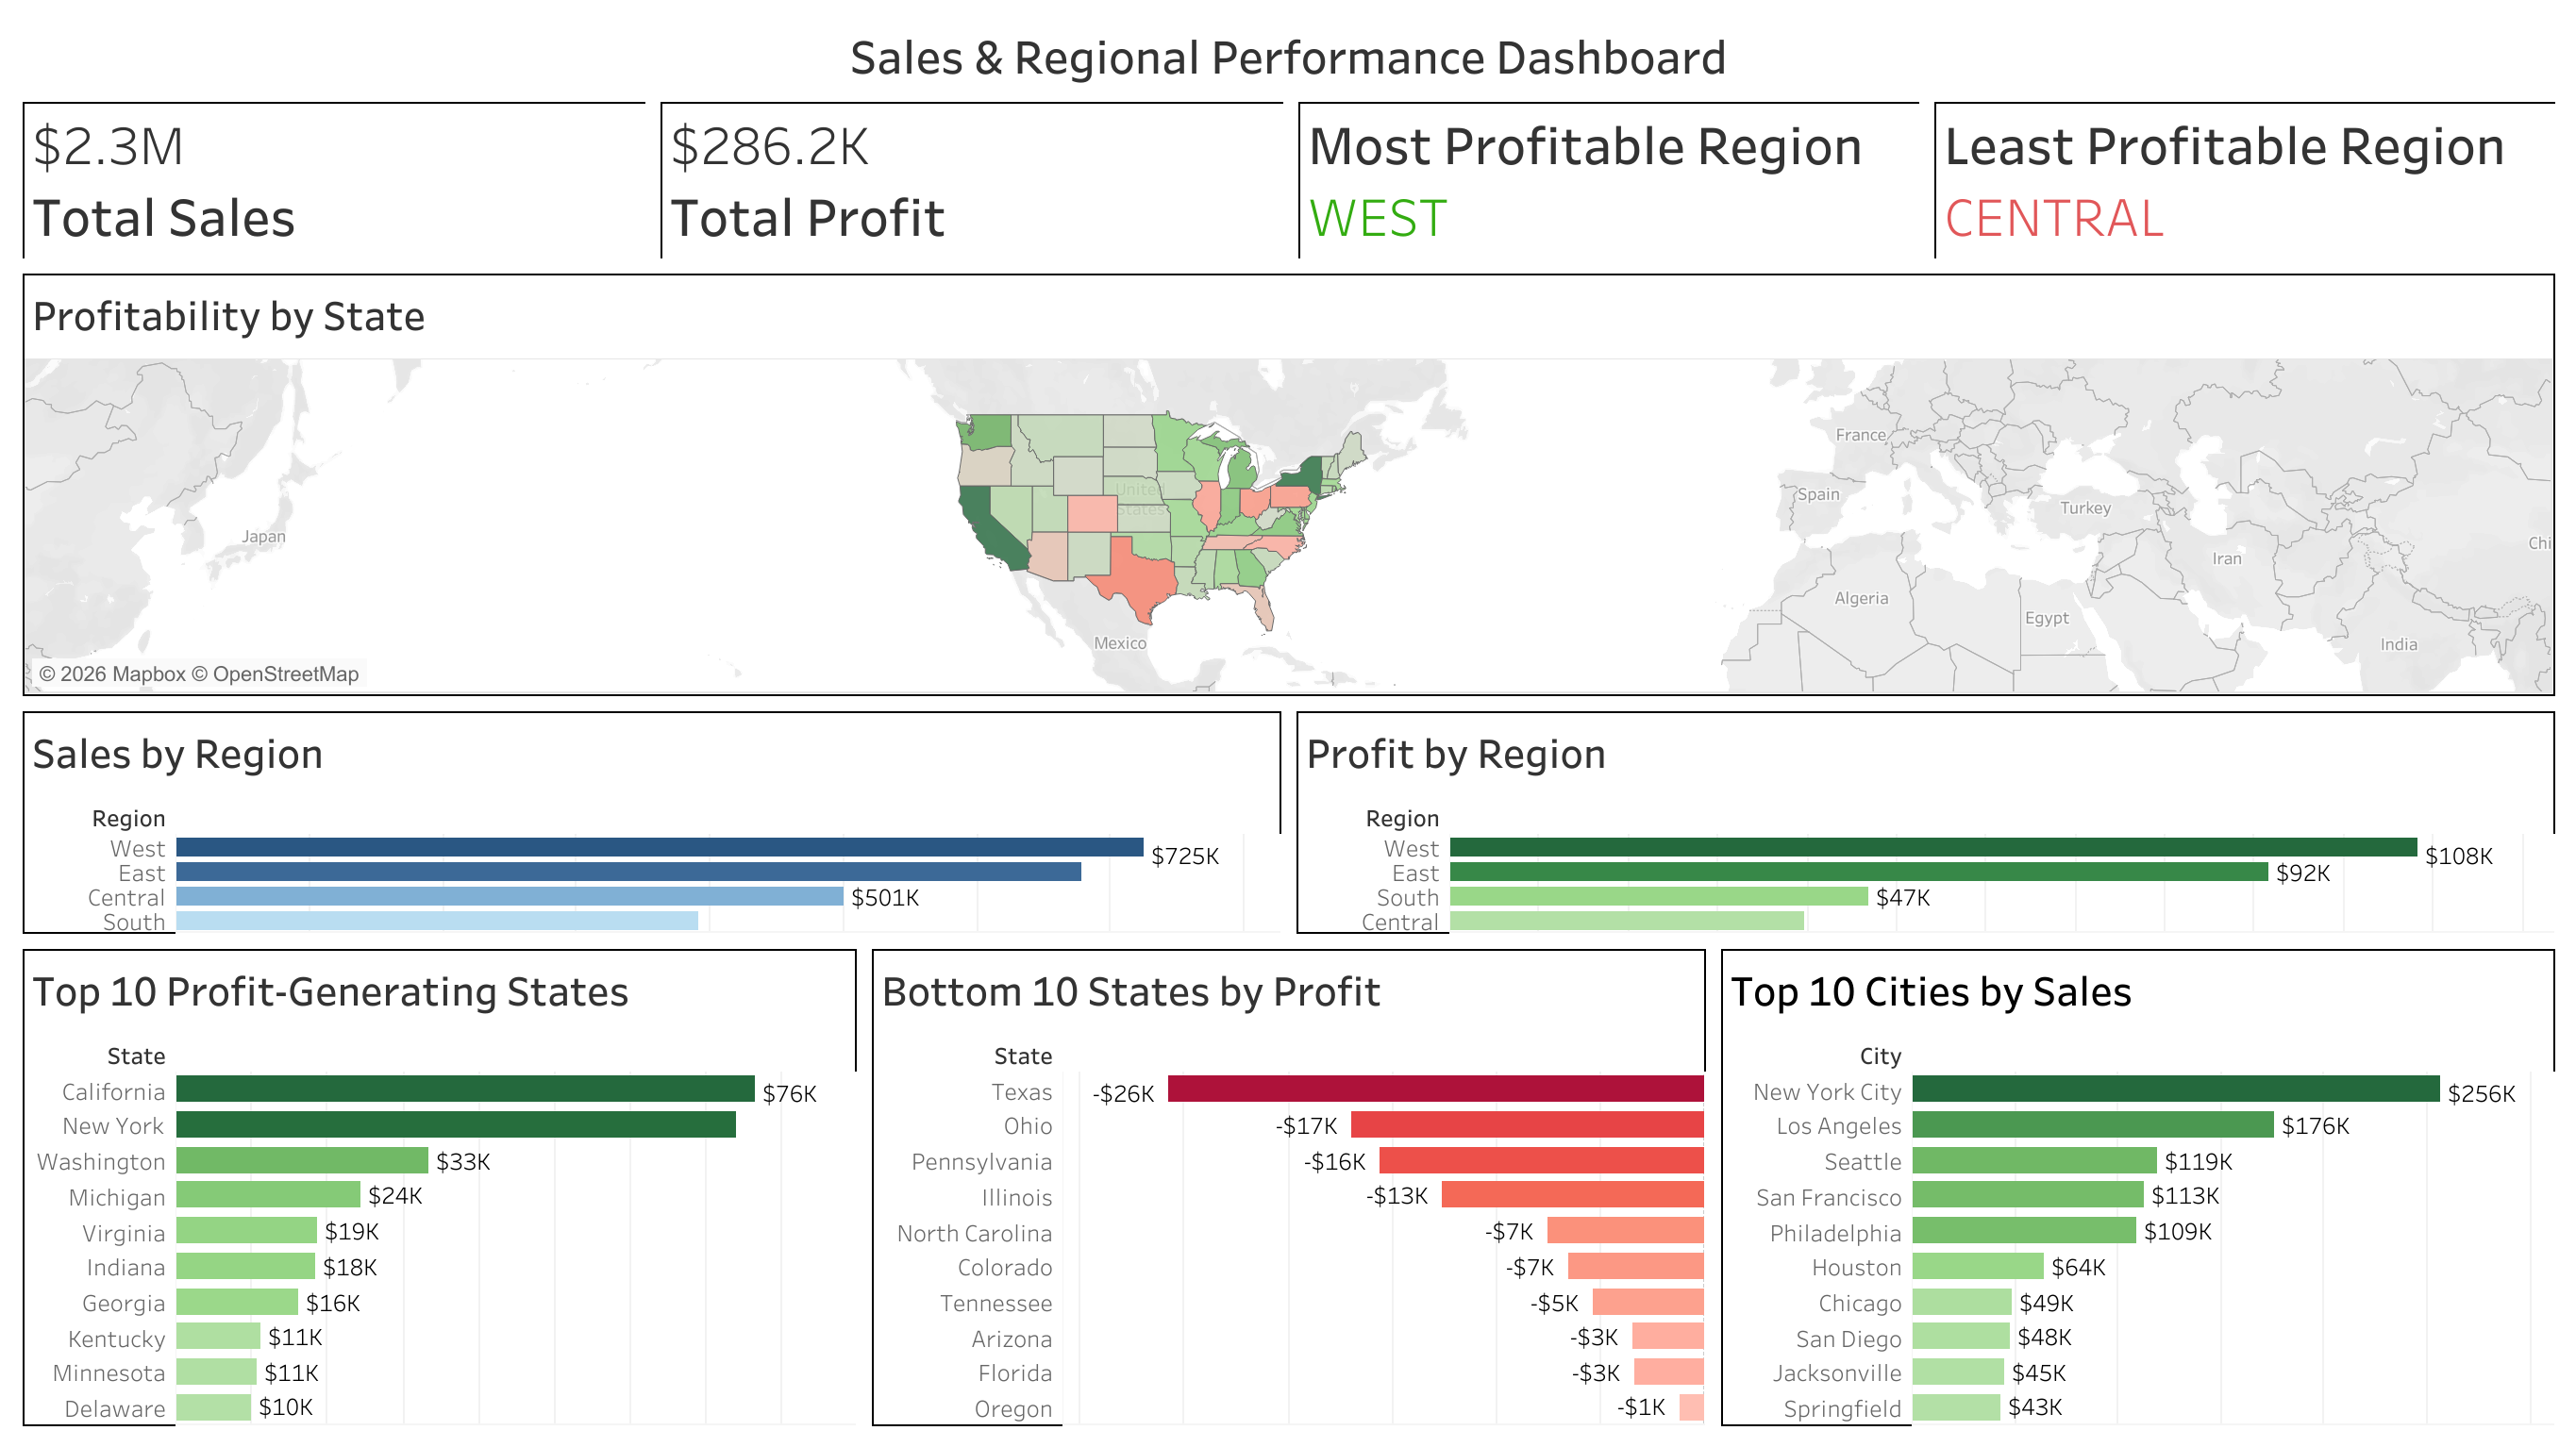

This screenshot's page, from the dashboard's own definition file:
{"tool":"tableau","page":{"name":"Sales & Regional Performance Dashboard","canvas":[1366,768],"ordinal":3},"visuals":[{"type":"title","box":[8,8,1350,41]},{"type":"worksheet","title":"KPI - Total Sales","mark":"Automatic","box":[8,49,338,91]},{"type":"worksheet","title":"KPI - Total Profit","mark":"Automatic","box":[346,49,338,91]},{"type":"worksheet","title":"KPI Best Region","mark":"Automatic","rows":["Region"],"box":[684,49,337,91]},{"type":"worksheet","title":"KPI Worst Region","mark":"Automatic","rows":["Region"],"box":[1021,49,337,91]},{"type":"worksheet","title":"Regional Profit Map","mark":"Multipolygon","box":[8,140,1350,233]},{"type":"worksheet","title":"Sales by Region","mark":"Automatic","rows":["Region"],"cols":["Sales"],"box":[8,373,675,126]},{"type":"worksheet","title":"Profit by Region","mark":"Automatic","rows":["Region"],"cols":["Profit"],"box":[683,373,675,126]},{"type":"worksheet","title":"Top 10 States by Profit","mark":"Bar","rows":["State"],"cols":["Profit"],"box":[8,499,450,261]},{"type":"worksheet","title":"Bottom 10 States by Profit","mark":"Automatic","rows":["State"],"cols":["Profit"],"box":[458,499,450,261]},{"type":"worksheet","title":"Top 10 Cities by Sales","mark":"Automatic","rows":["City"],"cols":["Sales"],"box":[908,499,450,261]}]}

Visuals, with their boxes in screenshot pixels (x1, y1, x2, y2), scaled from the page's 1366x768 canvas onto the 2576x1447 screenshot:
title: rect(15, 15, 2561, 92)
"KPI - Total Sales" worksheet: rect(15, 92, 652, 264)
"KPI - Total Profit" worksheet: rect(652, 92, 1290, 264)
"KPI Best Region" worksheet: rect(1290, 92, 1926, 264)
"KPI Worst Region" worksheet: rect(1926, 92, 2561, 264)
"Regional Profit Map" worksheet (Multipolygon marks): rect(15, 264, 2561, 703)
"Sales by Region" worksheet: rect(15, 703, 1288, 940)
"Profit by Region" worksheet: rect(1288, 703, 2561, 940)
"Top 10 States by Profit" worksheet (Bar marks): rect(15, 940, 863, 1432)
"Bottom 10 States by Profit" worksheet: rect(863, 940, 1713, 1432)
"Top 10 Cities by Sales" worksheet: rect(1713, 940, 2561, 1432)
